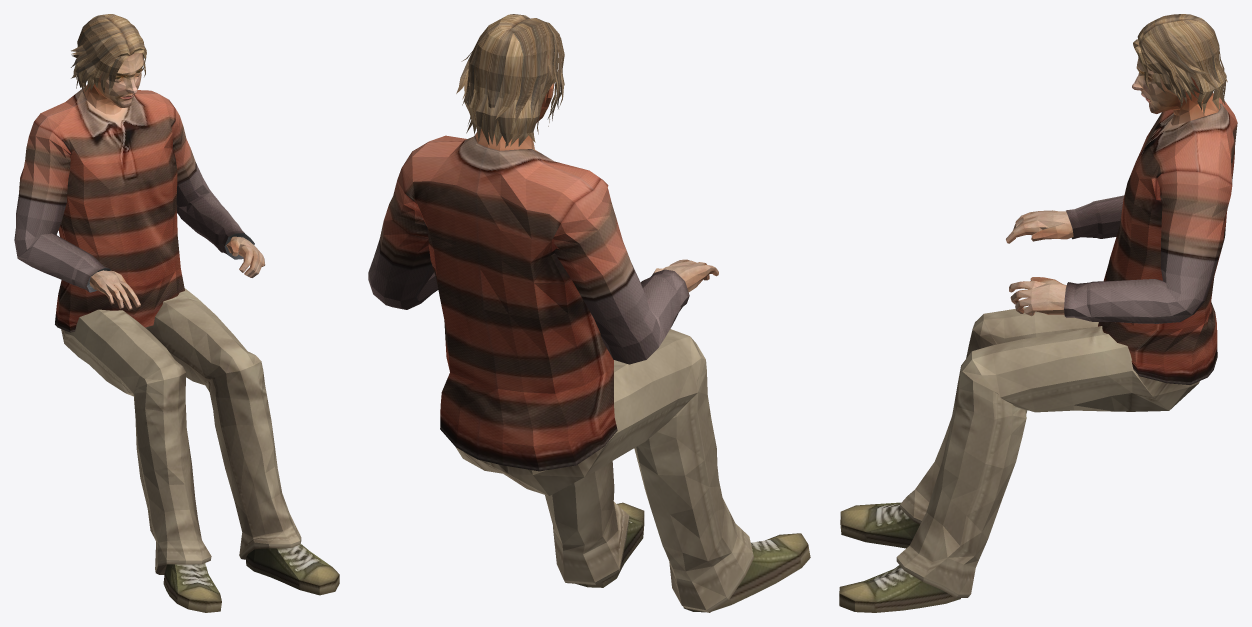
File: sweethome3d-reallusion-sitting-male-18.glb
The picture shows the model from 3 angles, left to right: view 1: azimuth 30°, elevation 25°; view 2: azimuth 150°, elevation 25°; view 3: azimuth 270°, elevation 25°; orthographic projection. The views are drawn at different scales.
Parts seen in each view (by area): view 1: Object01; view 2: Object01; view 3: Object01.
Part boxes in pixels (bbox=[...]): Object01: bbox=[14, 14, 339, 612]; Object01: bbox=[368, 14, 810, 612]; Object01: bbox=[839, 14, 1237, 612].
Bounding box in the file's own units: 62.58 × 144 × 95.08.
Materials: 4 (3 with a texture image).
